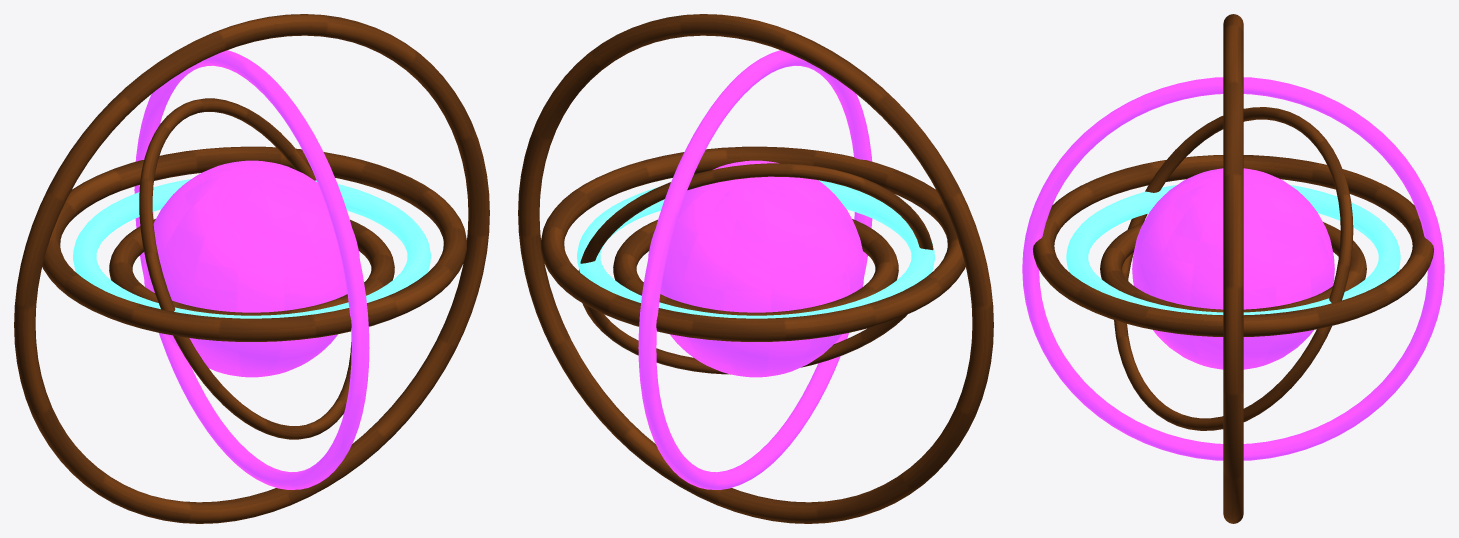
The model's file is spell_chrono_astrolabe.glb.
The picture shows the model from 3 angles, left to right: view 1: azimuth 30°, elevation 25°; view 2: azimuth 150°, elevation 25°; view 3: azimuth 270°, elevation 25°; orthographic projection. The views are drawn at different scales.
Parts seen in each view (by area): view 1: Astrolabe_Ring_X, ChronoCore, ClockGear_2_Rim, Astrolabe_Ring_Y, Astrolabe_Ring_Z, ClockGear_1_Rim, ClockGear_0_Rim; view 2: Astrolabe_Ring_X, ChronoCore, ClockGear_2_Rim, Astrolabe_Ring_Y, Astrolabe_Ring_Z, ClockGear_1_Rim, ClockGear_0_Rim; view 3: ChronoCore, Astrolabe_Ring_Y, ClockGear_2_Rim, Astrolabe_Ring_X, Astrolabe_Ring_Z, ClockGear_1_Rim, ClockGear_0_Rim.
Boxes of the visible parts, x1,y1,x2,y2 form: Astrolabe_Ring_X: (14, 14, 489, 523); ChronoCore: (143, 160, 359, 377); ClockGear_2_Rim: (42, 146, 467, 341); Astrolabe_Ring_Y: (134, 50, 369, 489); Astrolabe_Ring_Z: (139, 98, 351, 439); ClockGear_1_Rim: (73, 179, 430, 318); ClockGear_0_Rim: (109, 219, 394, 315); Astrolabe_Ring_X: (518, 14, 993, 523); ChronoCore: (648, 160, 864, 377); ClockGear_2_Rim: (540, 146, 965, 341); Astrolabe_Ring_Y: (638, 50, 872, 489); Astrolabe_Ring_Z: (578, 163, 933, 374); ClockGear_1_Rim: (577, 180, 934, 318); ClockGear_0_Rim: (613, 219, 898, 315); ChronoCore: (1132, 168, 1334, 369); Astrolabe_Ring_Y: (1022, 77, 1444, 460); ClockGear_2_Rim: (1033, 155, 1433, 336); Astrolabe_Ring_X: (1223, 14, 1243, 523); Astrolabe_Ring_Z: (1114, 107, 1353, 430); ClockGear_1_Rim: (1066, 185, 1400, 314); ClockGear_0_Rim: (1100, 222, 1366, 312).
Bounding box in the file's own units: 1.21 × 1.21 × 1.
Materials: 3 (3 with a texture image).
